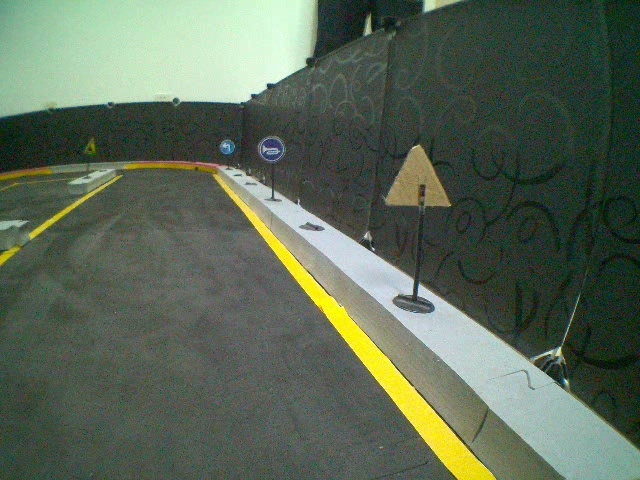fast: (81, 136, 99, 157)
horn: (258, 135, 287, 164)
turn: (220, 139, 234, 155)
